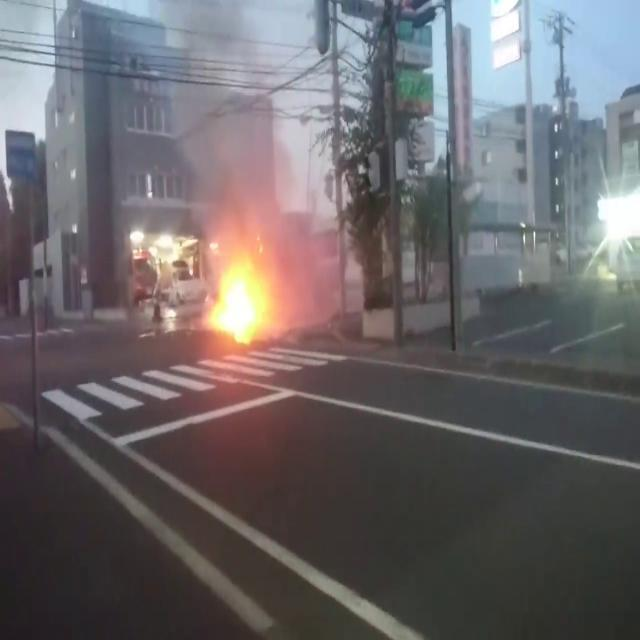Fire: (213, 270, 269, 343)
